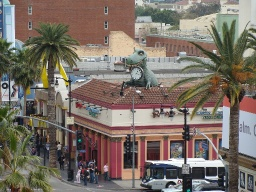bus: (139, 157, 229, 190)
